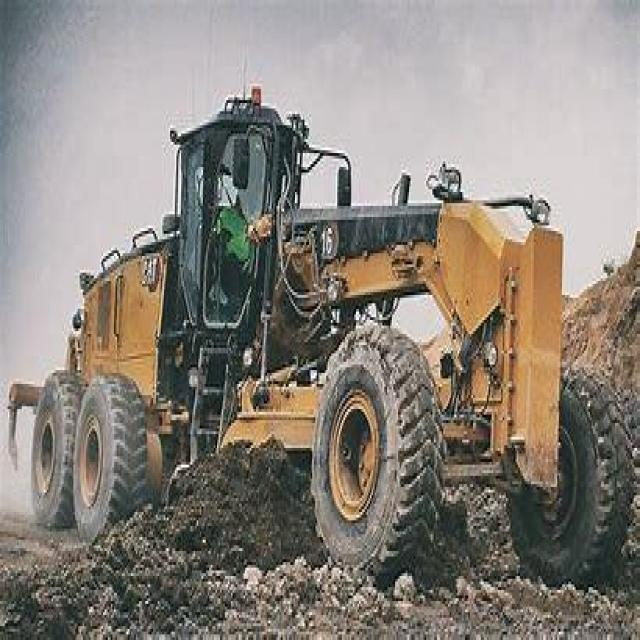Grader: (14, 78, 624, 593)
